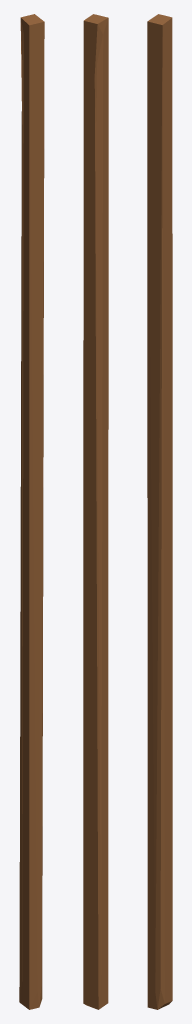
The model's file is pk-halberstram-sm-trebuchet-arm.glb.
3 views of the same model, side by side, from view 1: azimuth 30°, elevation 25°; view 2: azimuth 150°, elevation 25°; view 3: azimuth 330°, elevation 25° (orthographic).
Visible parts, largest first — view 1: Object211; view 2: Object211; view 3: Object211.
Part boxes in pixels (<box>): Object211: <box>19,14,44,1009</box>; Object211: <box>83,14,108,1009</box>; Object211: <box>147,14,172,1009</box>.
Bounding box in the file's own units: 0.176 × 10.93 × 0.2167.
